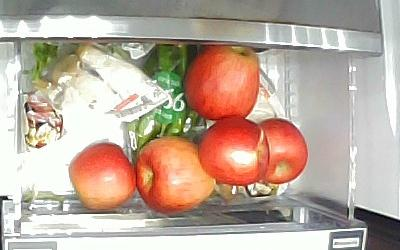apple: (135, 138, 215, 214), (183, 46, 260, 119), (197, 117, 271, 186), (67, 141, 135, 213), (257, 116, 309, 185)
